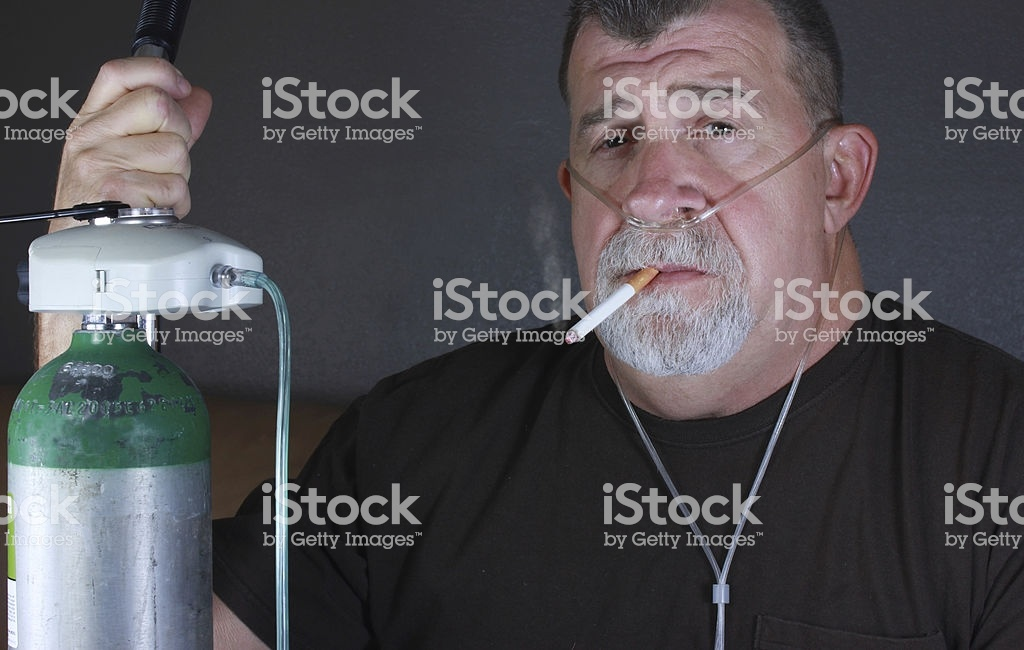sigaretta: (561, 261, 668, 343)
